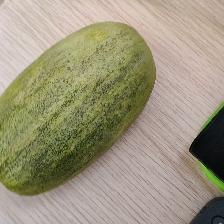gua: (44, 39, 129, 146)
